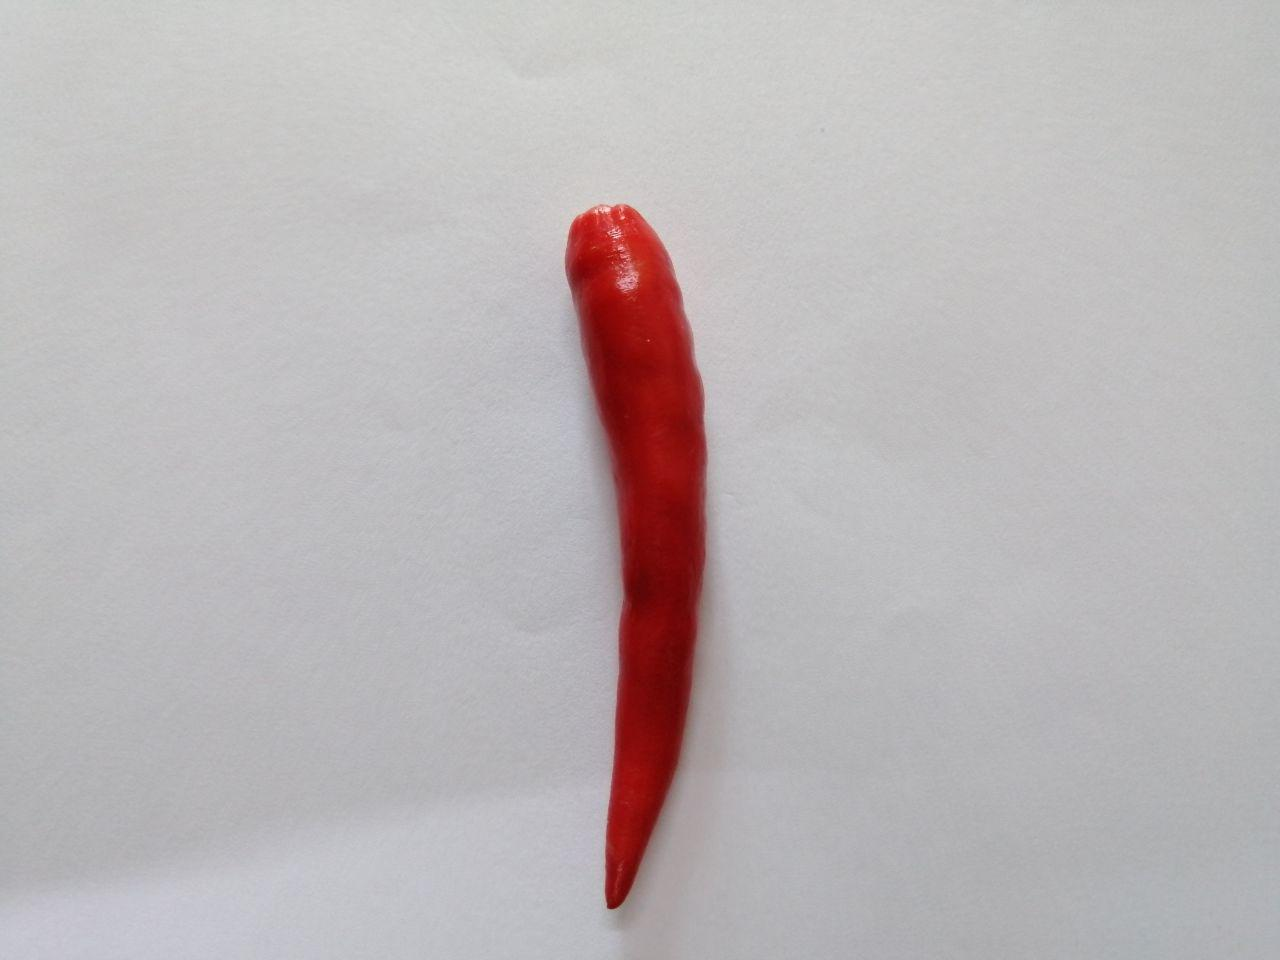lada merah: (509, 188, 747, 928)
